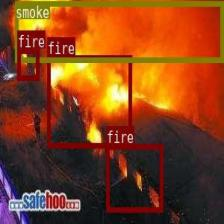fire: (47, 54, 131, 147), (106, 144, 162, 212), (17, 48, 38, 80)
smoke: (14, 1, 222, 61)
